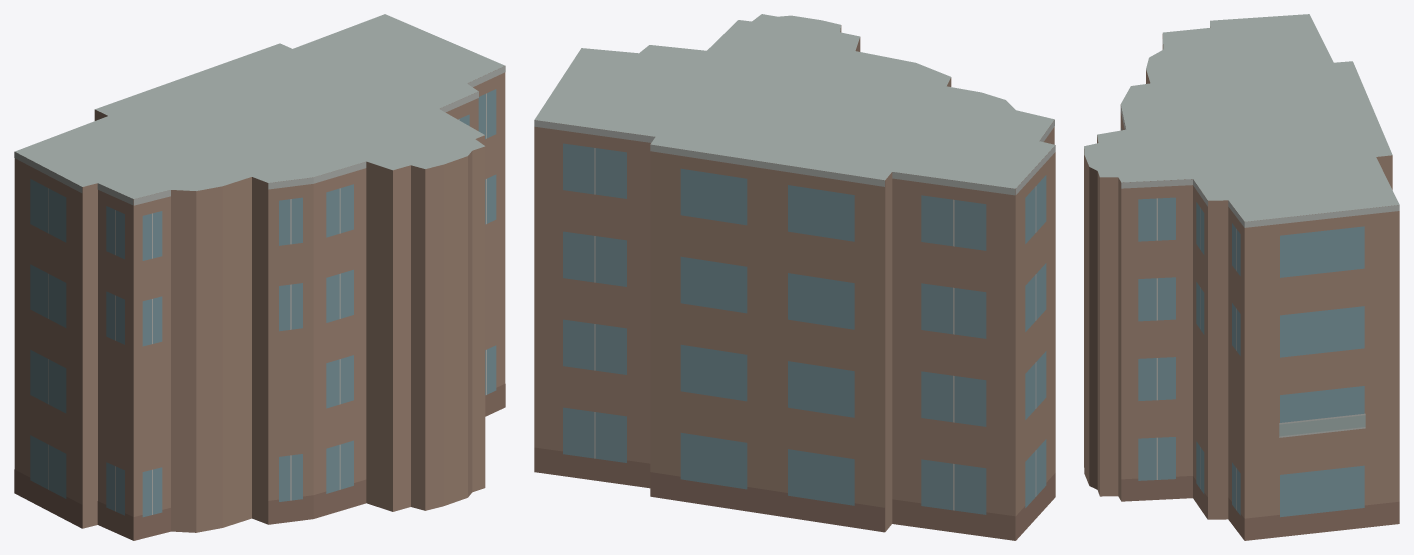
File: survey-upis-32690382.glb
The picture shows the model from 3 angles, left to right: view 1: azimuth 30°, elevation 25°; view 2: azimuth 150°, elevation 25°; view 3: azimuth 270°, elevation 25°; orthographic projection. The views are drawn at different scales.
Parts seen in each view (by area): view 1: survey-upis-32690382.tmp; view 2: survey-upis-32690382.tmp; view 3: survey-upis-32690382.tmp.
Part boxes in pixels (x1=…): survey-upis-32690382.tmp: x1=14, y1=14, x2=505, y2=540; survey-upis-32690382.tmp: x1=534, y1=14, x2=1055, y2=540; survey-upis-32690382.tmp: x1=1084, y1=14, x2=1399, y2=540.
Bounding box in the file's own units: 17.89 × 12.8 × 11.48.
